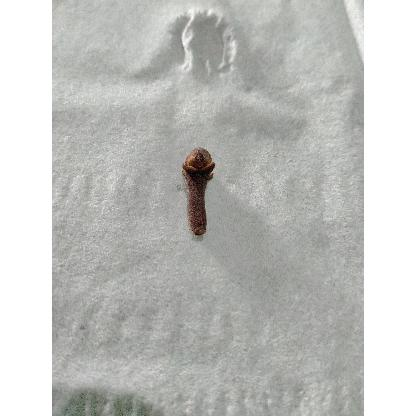baik: (181, 148, 215, 238)
